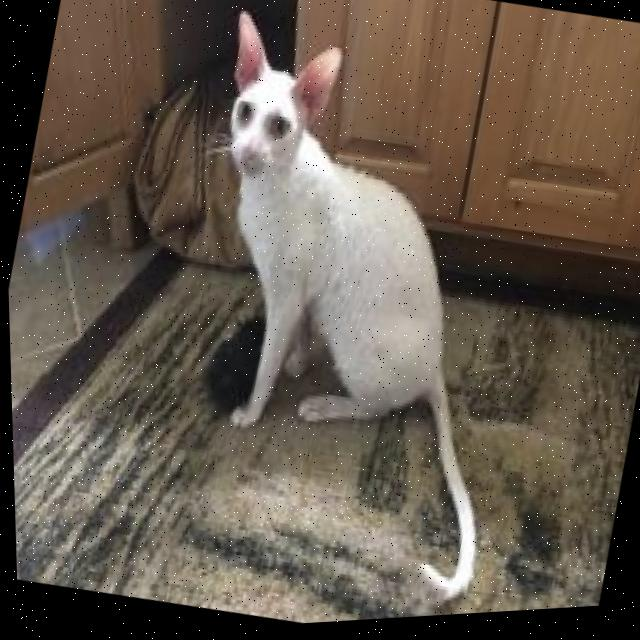Cornish Rex: (121, 0, 581, 624)
